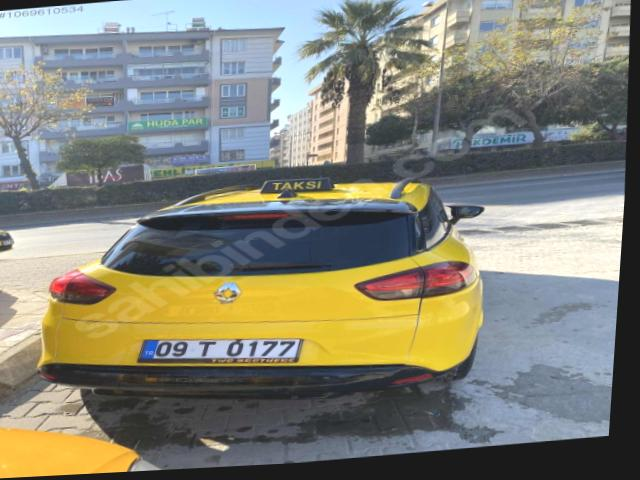plaka: (139, 339, 298, 363)
